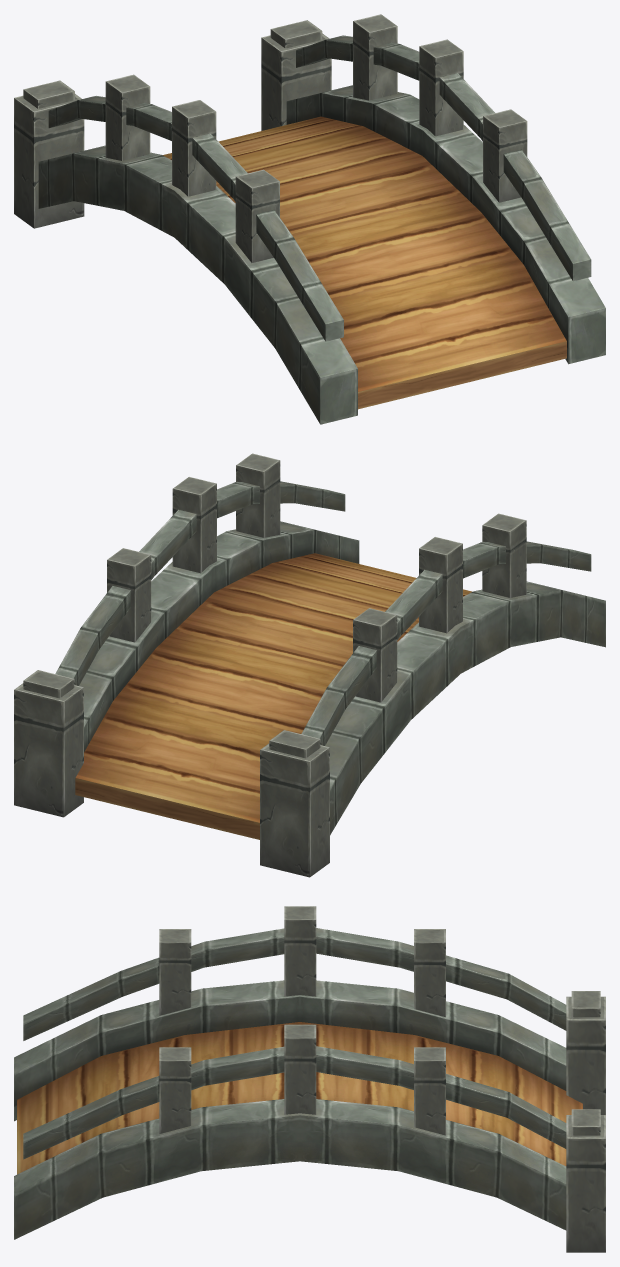
Rendered from bridge_03_tile_03.fbx.
3 views of the same model, one above another, from view 1: azimuth 30°, elevation 25°; view 2: azimuth 150°, elevation 25°; view 3: azimuth 270°, elevation 25° (orthographic). The views are drawn at different scales.
Parts seen in each view (by area): view 1: bridge_03_tile_03; view 2: bridge_03_tile_03; view 3: bridge_03_tile_03.
Part boxes in pixels (bbox=[...]): bridge_03_tile_03: bbox=[14, 14, 605, 424]; bridge_03_tile_03: bbox=[14, 453, 605, 877]; bridge_03_tile_03: bbox=[14, 906, 605, 1252].
Bounding box in the file's own units: 2.47 × 1.69 × 4.34.
